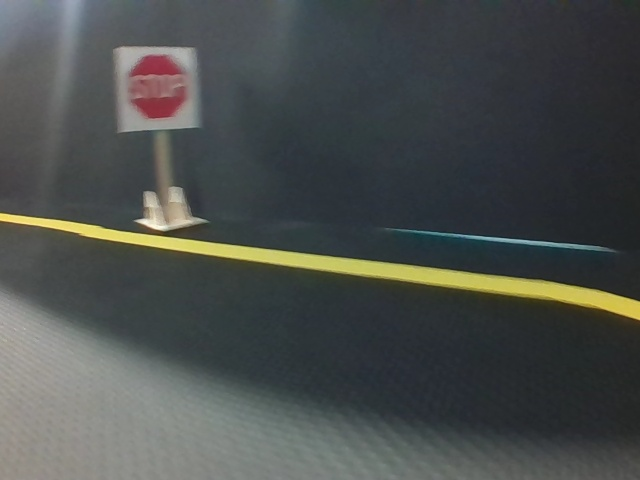stop: (116, 48, 197, 128)
